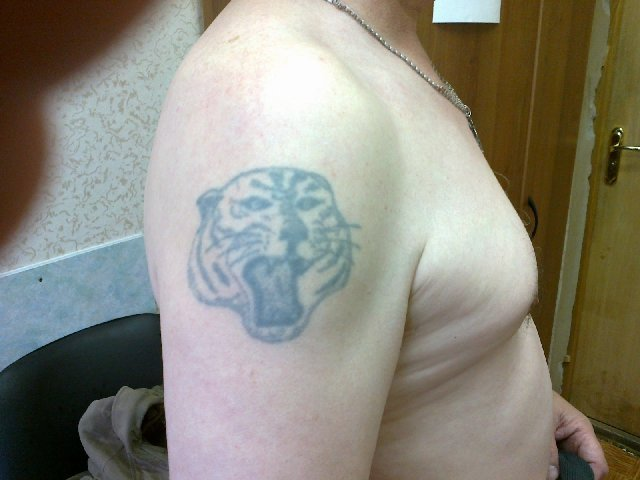tatu5_tigr: (183, 165, 367, 346)
